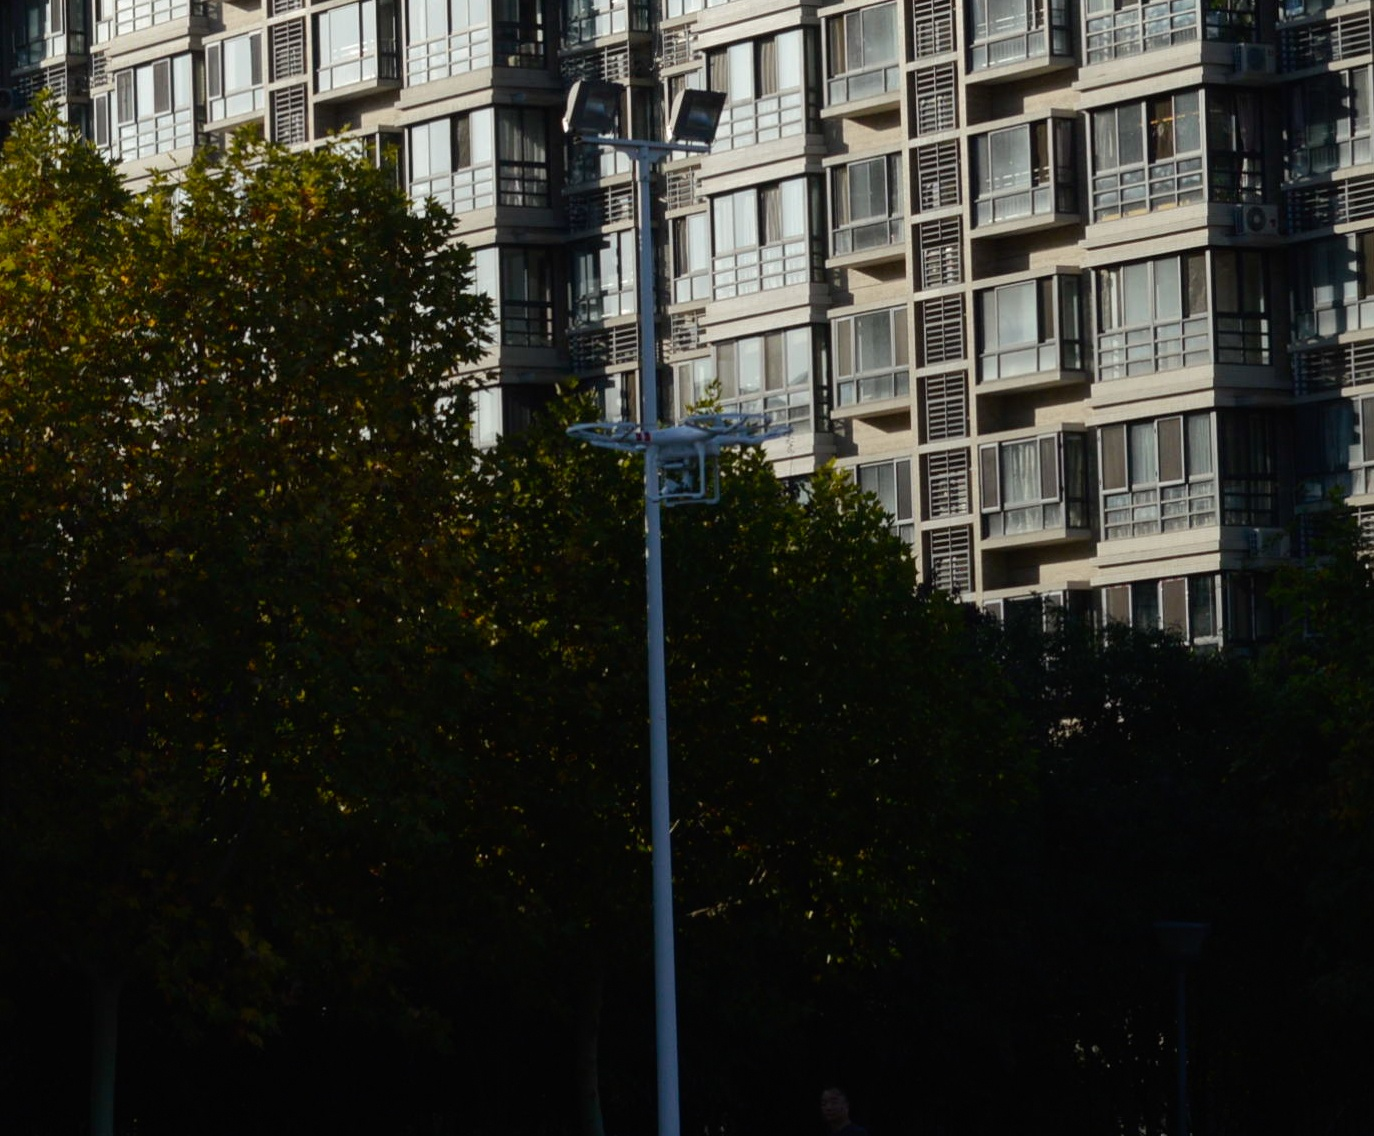DJI: (563, 408, 793, 511)
